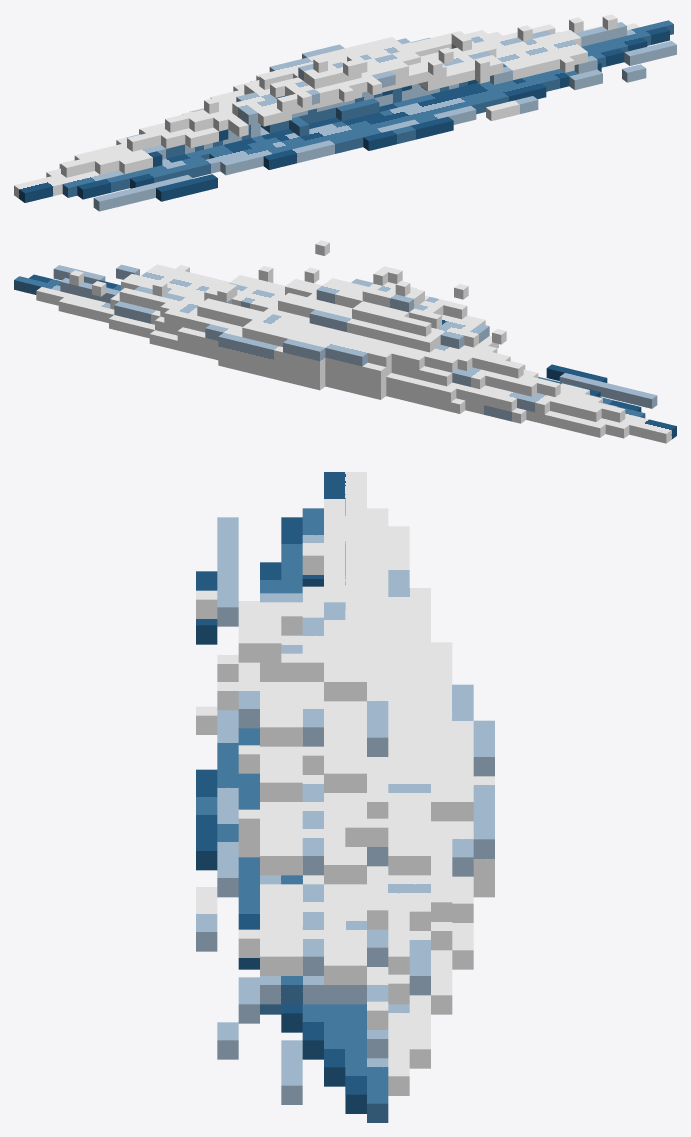
File: wave-crests.gltf
3 views of the same model, one above another, from view 1: azimuth 30°, elevation 25°; view 2: azimuth 150°, elevation 25°; view 3: azimuth 270°, elevation 25° (orthographic). The views are drawn at different scales.
Visible parts, largest first — view 1: wave_crest-Mesh; view 2: wave_crest-Mesh; view 3: wave_crest-Mesh.
Boxes of the visible parts, box(x1,y1,x2,y2) form: wave_crest-Mesh: box(14, 14, 676, 211); wave_crest-Mesh: box(14, 240, 676, 443); wave_crest-Mesh: box(196, 472, 494, 1122).
Size of the model in its own units: 70 by 8 by 14.
Materials: 1 (1 with a texture image).
